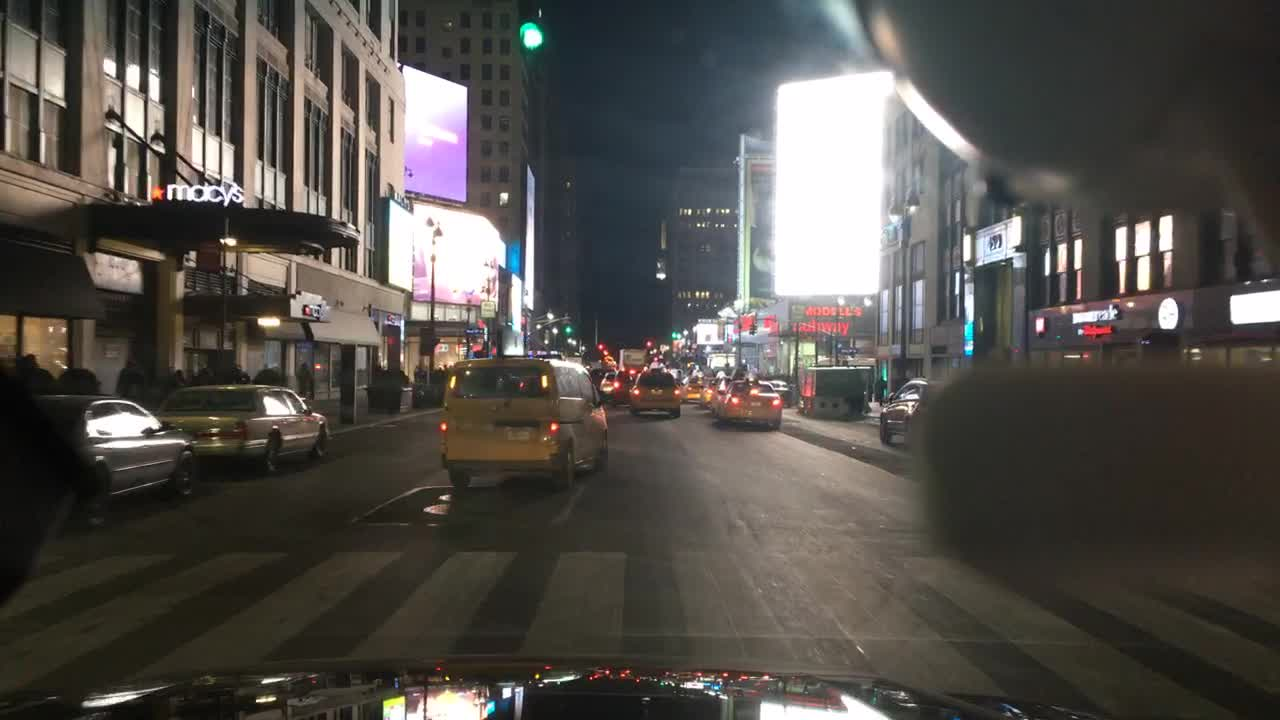car: (437, 355, 608, 492), (57, 391, 198, 529), (158, 383, 330, 479), (719, 370, 783, 430), (877, 378, 930, 444), (629, 360, 682, 419), (601, 371, 638, 409), (712, 379, 745, 417), (588, 364, 615, 401), (767, 379, 795, 406), (701, 374, 721, 411), (679, 376, 705, 401), (669, 358, 686, 379), (686, 360, 704, 376), (647, 358, 669, 371)
person: (18, 351, 53, 395), (56, 367, 100, 398), (114, 358, 144, 401), (300, 359, 316, 403), (164, 368, 187, 398), (251, 366, 285, 386), (222, 360, 249, 385), (196, 359, 219, 385), (872, 376, 885, 405), (413, 364, 424, 383), (425, 363, 432, 385), (433, 364, 440, 382), (441, 362, 449, 374)
traffic light: (519, 4, 542, 53), (748, 320, 757, 336), (562, 322, 572, 334), (670, 329, 677, 342), (597, 342, 603, 353), (646, 337, 651, 347)
traffic sign: (481, 299, 493, 319), (465, 327, 483, 334)
truck: (619, 347, 644, 370)
